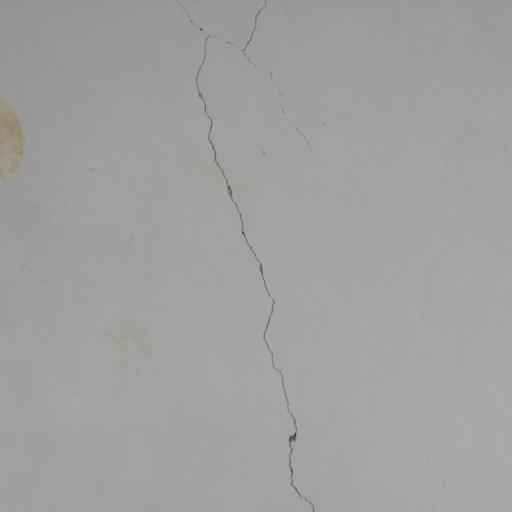minor_crack: (177, 0, 346, 512)
